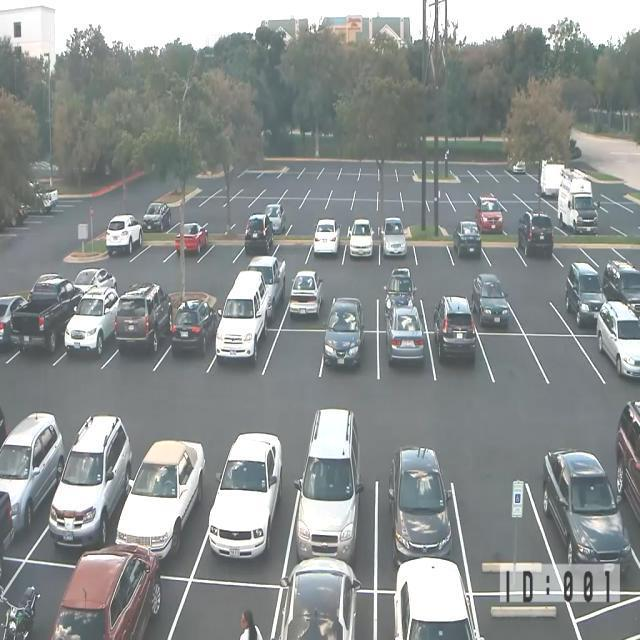space-empty: (451, 459, 556, 590), (536, 333, 596, 394), (486, 328, 540, 393), (267, 329, 326, 386), (511, 281, 564, 344), (419, 281, 470, 336), (328, 272, 378, 327), (477, 224, 525, 279), (411, 226, 452, 276), (548, 234, 593, 275), (133, 233, 175, 276), (588, 233, 625, 280), (204, 229, 243, 270), (528, 208, 559, 245), (278, 238, 309, 265), (502, 216, 528, 248), (229, 211, 260, 233), (519, 186, 545, 211), (381, 211, 411, 231), (491, 186, 517, 208), (193, 213, 221, 233), (401, 199, 430, 218), (453, 198, 479, 218), (350, 213, 380, 230), (166, 215, 196, 232), (288, 219, 314, 238), (526, 206, 555, 223), (216, 177, 242, 194), (445, 186, 470, 203), (468, 186, 493, 203), (320, 215, 348, 230), (493, 201, 521, 215), (283, 186, 309, 201), (304, 198, 330, 213), (354, 183, 380, 198), (378, 198, 404, 213), (254, 197, 280, 211), (351, 197, 377, 211), (429, 200, 453, 215), (403, 186, 424, 203), (205, 196, 234, 208), (380, 184, 400, 201), (330, 184, 354, 198), (240, 181, 262, 196), (310, 184, 332, 199), (424, 186, 446, 201), (316, 171, 338, 186), (493, 173, 515, 188), (278, 197, 301, 211), (356, 176, 379, 190), (180, 196, 202, 210), (329, 199, 351, 213), (229, 196, 254, 208), (468, 164, 488, 179), (264, 184, 285, 198), (295, 172, 319, 184), (317, 162, 341, 174), (196, 181, 216, 195), (340, 162, 360, 176), (396, 172, 416, 186), (448, 164, 466, 179), (357, 166, 379, 178), (491, 166, 508, 181), (395, 164, 416, 176), (297, 164, 321, 174), (337, 172, 357, 184), (378, 172, 398, 184), (377, 164, 397, 176), (278, 171, 301, 181), (279, 163, 299, 173), (456, 173, 476, 183), (474, 174, 494, 184), (516, 172, 532, 184), (258, 171, 280, 178)
space-occupied: (293, 448, 376, 584), (546, 452, 627, 577), (208, 449, 289, 574), (129, 444, 209, 565), (376, 461, 456, 579), (45, 434, 125, 552), (63, 559, 179, 640), (0, 412, 67, 533), (0, 560, 71, 640), (212, 325, 271, 390), (281, 256, 331, 331), (235, 256, 288, 325), (7, 313, 73, 368), (436, 332, 490, 395), (61, 318, 122, 371), (324, 329, 380, 386), (377, 332, 432, 389), (115, 323, 170, 378), (568, 273, 614, 334), (465, 282, 515, 337), (594, 328, 639, 389), (163, 331, 216, 381), (443, 222, 489, 277), (512, 221, 562, 271), (375, 276, 420, 327), (171, 225, 214, 270), (376, 225, 412, 270), (561, 201, 599, 240), (241, 228, 277, 268), (346, 227, 377, 270), (475, 194, 505, 237), (109, 228, 140, 267), (310, 230, 342, 262), (263, 204, 286, 236), (141, 208, 166, 227)
